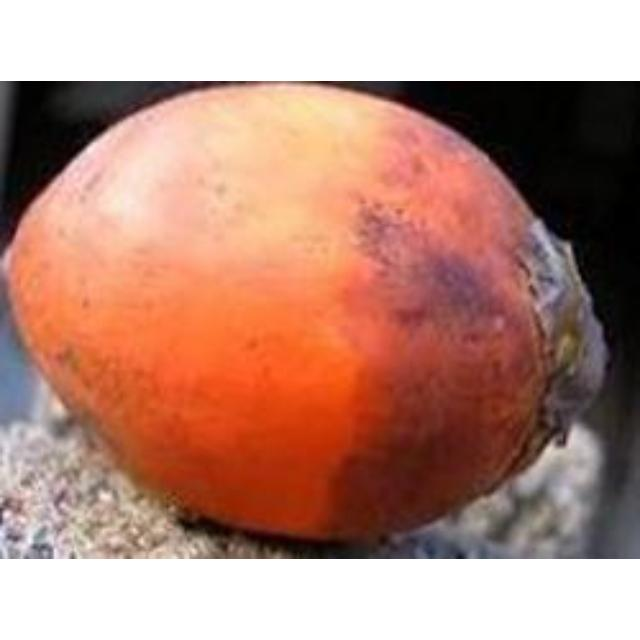good: (3, 84, 607, 552)
